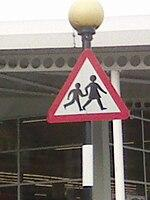School Ahead: (47, 46, 130, 125)
